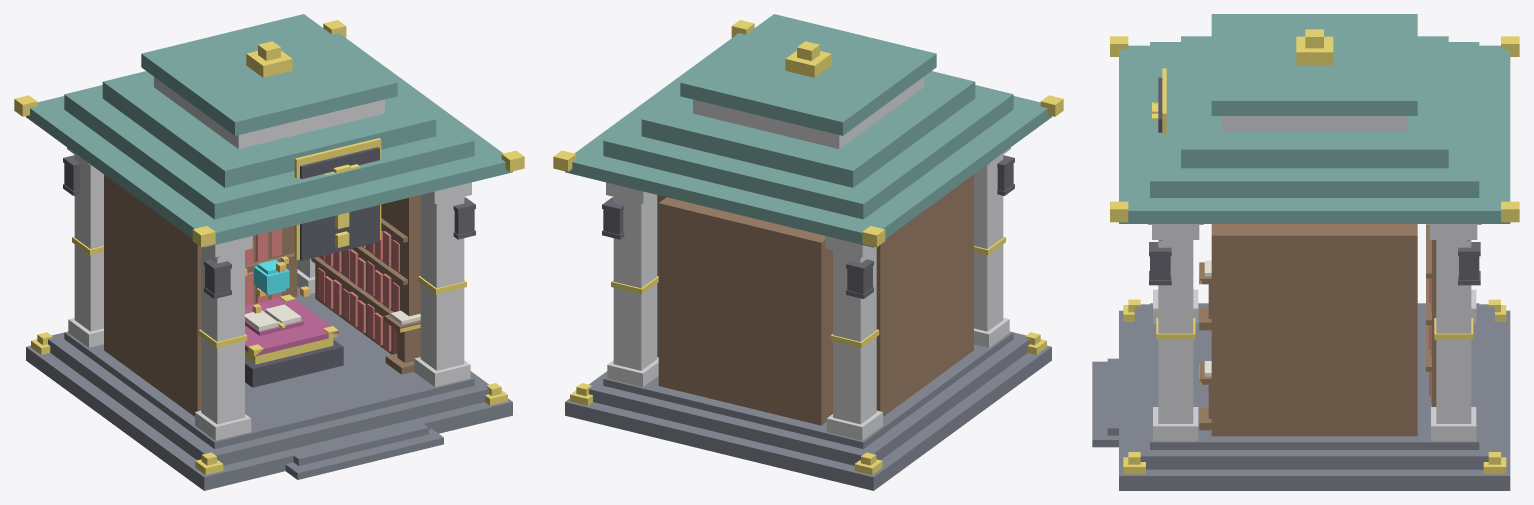
Rendered from gdg_faq.glb.
3 views of the same model, side by side, from view 1: azimuth 30°, elevation 25°; view 2: azimuth 150°, elevation 25°; view 3: azimuth 270°, elevation 25° (orthographic). The views are drawn at different scales.
Visible parts, largest first — view 1: pavilion_roof, base_plinth, bookshelf_wood, pavilion_pillar, gold_trim, book_spines, altar_stone, enchanted_book, lantern_iron, book_pages, floating_crystal, question_mark; view 2: pavilion_roof, bookshelf_wood, base_plinth, pavilion_pillar, gold_trim, lantern_iron; view 3: pavilion_roof, bookshelf_wood, base_plinth, pavilion_pillar, gold_trim, lantern_iron.
Boxes of the visible parts, bbox=[...] form: pavilion_roof: bbox=[26, 14, 512, 247]; base_plinth: bbox=[26, 286, 512, 490]; bookshelf_wood: bbox=[104, 174, 420, 416]; pavilion_pillar: bbox=[67, 77, 471, 440]; gold_trim: bbox=[14, 20, 524, 474]; book_spines: bbox=[245, 229, 399, 353]; altar_stone: bbox=[245, 147, 379, 387]; enchanted_book: bbox=[245, 297, 338, 356]; lantern_iron: bbox=[63, 155, 475, 298]; book_pages: bbox=[245, 304, 420, 331]; floating_crystal: bbox=[254, 259, 289, 295]; question_mark: bbox=[324, 164, 359, 247]; pavilion_roof: bbox=[565, 14, 1051, 247]; bookshelf_wood: bbox=[657, 174, 973, 425]; base_plinth: bbox=[565, 331, 1051, 490]; pavilion_pillar: bbox=[606, 77, 1010, 440]; gold_trim: bbox=[553, 20, 1063, 474]; lantern_iron: bbox=[602, 155, 1014, 298]; pavilion_roof: bbox=[1119, 14, 1510, 223]; bookshelf_wood: bbox=[1199, 224, 1436, 436]; base_plinth: bbox=[1092, 303, 1510, 490]; pavilion_pillar: bbox=[1148, 116, 1481, 441]; gold_trim: bbox=[1110, 29, 1519, 474]; lantern_iron: bbox=[1149, 240, 1480, 285].
Size of the model in its own units: 3.98 by 4.02 by 4.15.
